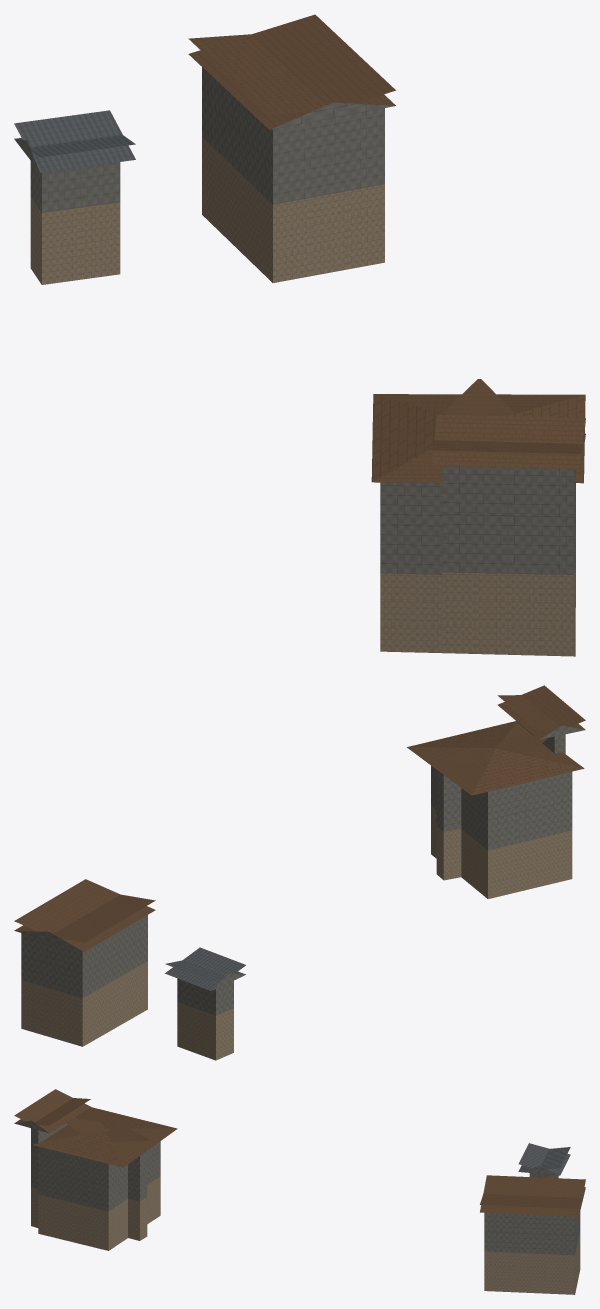
File: bld_c35_-29_445.gltf
3 views of the same model, one above another, from view 1: azimuth 30°, elevation 25°; view 2: azimuth 150°, elevation 25°; view 3: azimuth 270°, elevation 25° (orthographic). The views are drawn at different scales.
Parts seen in each view (by area): view 1: bld_c35_-29_445; view 2: bld_c35_-29_445; view 3: bld_c35_-29_445.
Boxes of the visible parts, box(x1,y1,x2,y2) form: bld_c35_-29_445: box(14, 14, 585, 656); bld_c35_-29_445: box(14, 685, 585, 1060); bld_c35_-29_445: box(14, 1089, 585, 1294).
Size of the model in its own units: 29.3 by 14.6 by 66.72.
5 materials, 5 textured.
